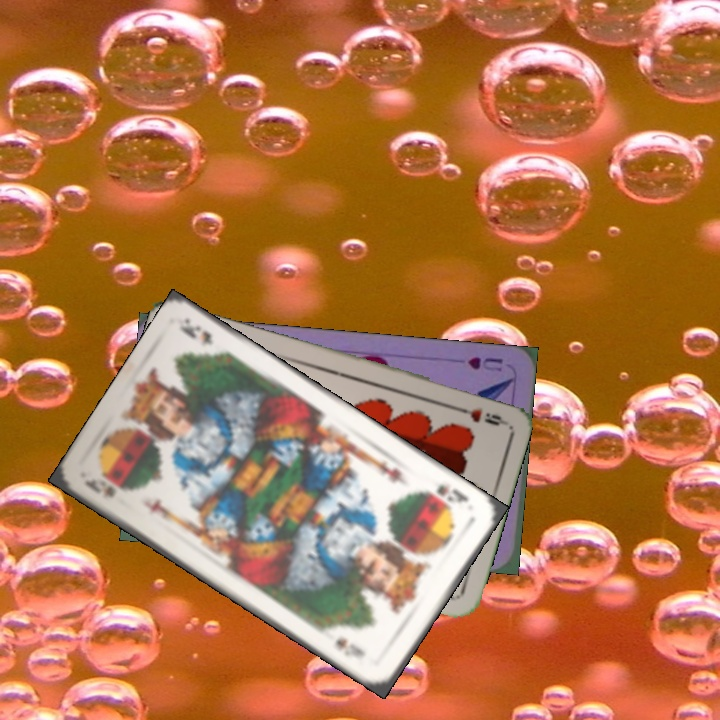H9: (449, 401, 507, 429)
HU: (463, 353, 506, 374)
SK: (432, 480, 471, 507), (80, 474, 119, 500)
